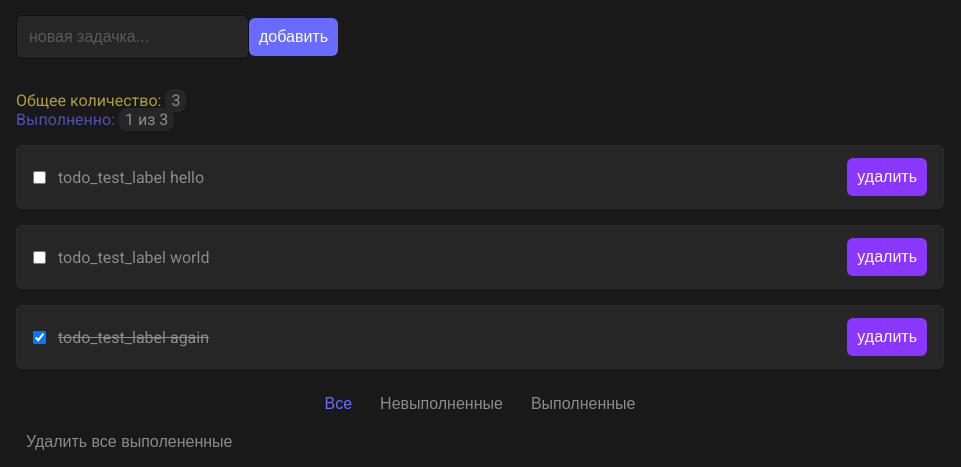
Test: App › deleting todo removes it from list
Step 1. Click the button "удалить" in the row of "todo_test_label hello" → (887, 177), box [847,158,927,196]
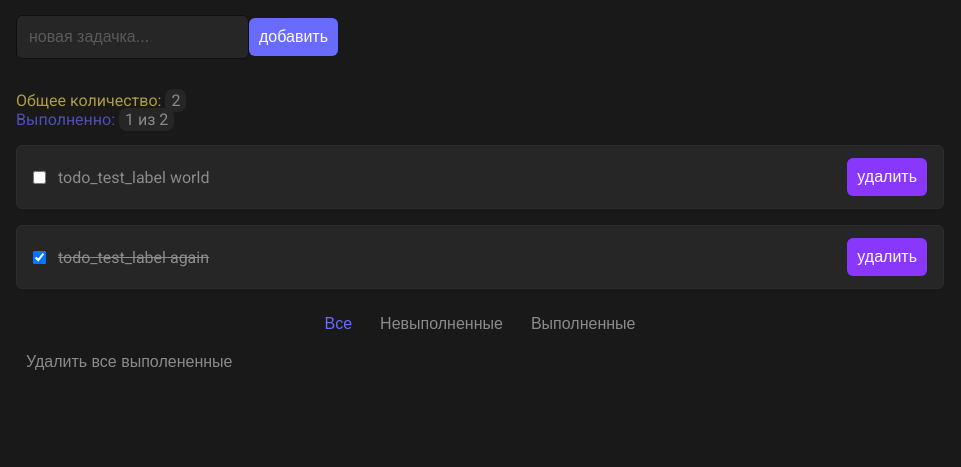
Check: the text "todo_test_label world" is shown 2 times, box [58,168,209,186]; [58,248,209,266]
